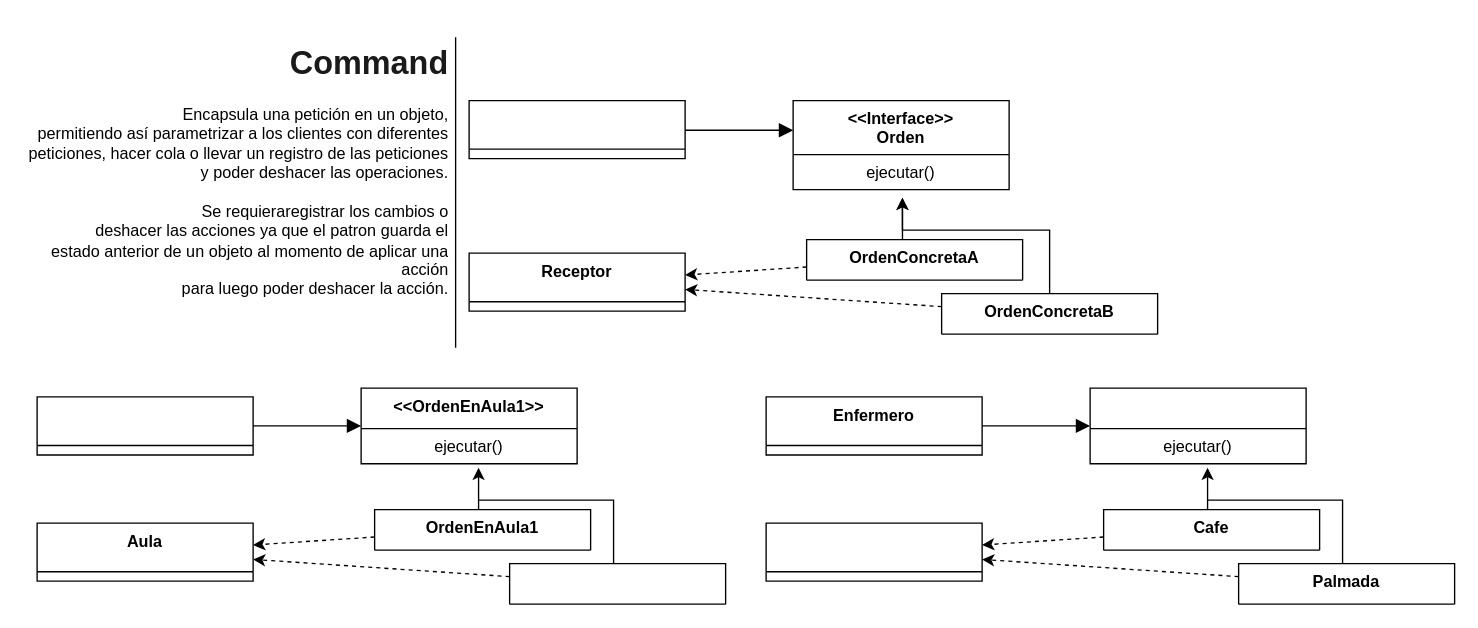
Image size: 1478x628. Some labels were removed from this diagram. Each missing label, with the box of its shape:
Coleccion: (36, 396, 253, 455)
Invocador: (468, 99, 685, 159)
IOrden: (1089, 387, 1306, 464)
OrdenEnAula2: (508, 562, 726, 604)
Paciente: (765, 522, 982, 581)
